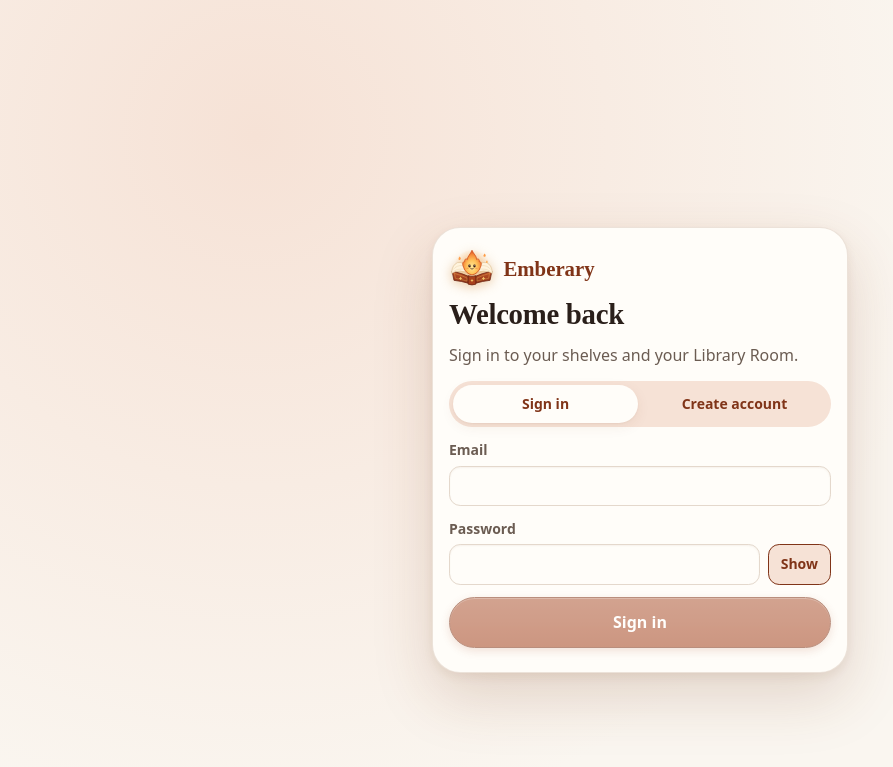
displays a sign-in error and makes retry possible
In the field labelled "Email": (640, 486) [449,466,831,506], type "me@example.com"
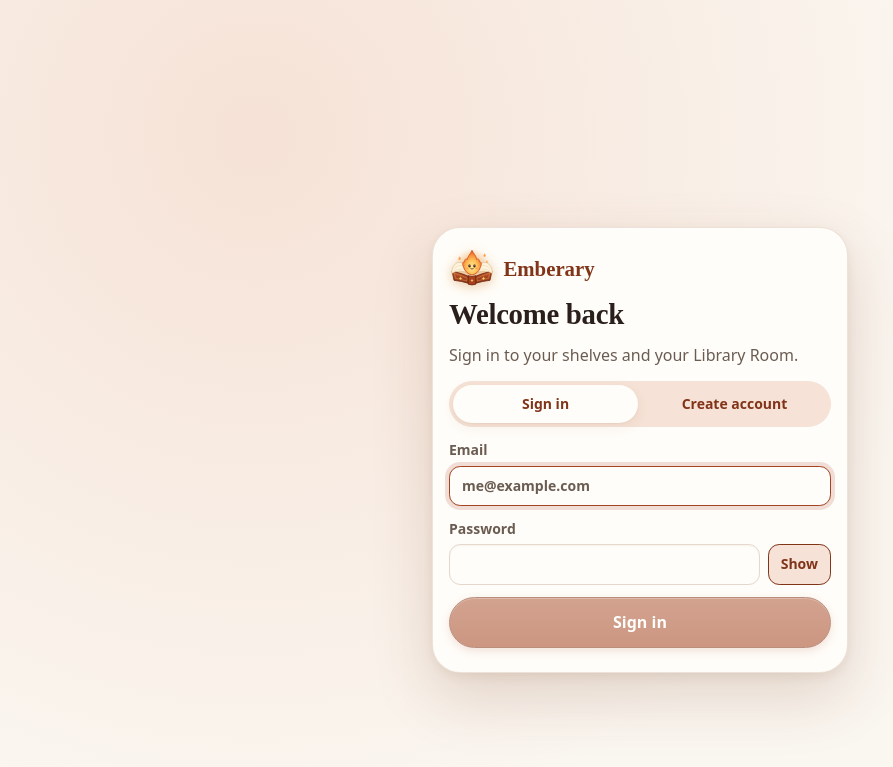
In the password field labelled "Password": (604, 565) [449,544,760,585], type "bad"
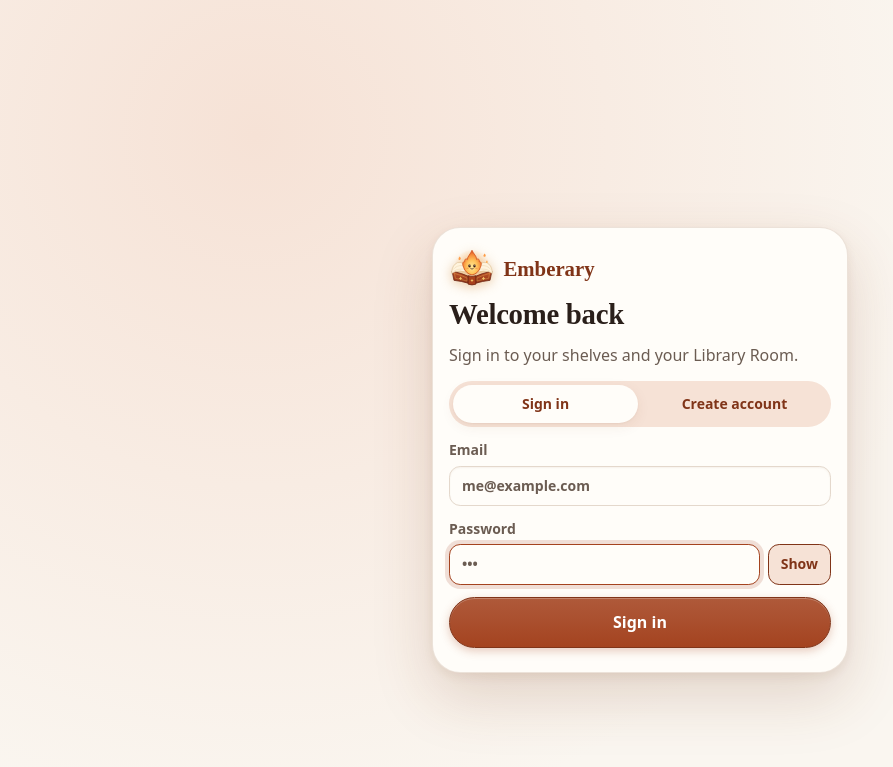
Click the button "Sign in" below "Password": (640, 623) [449,597,831,648]
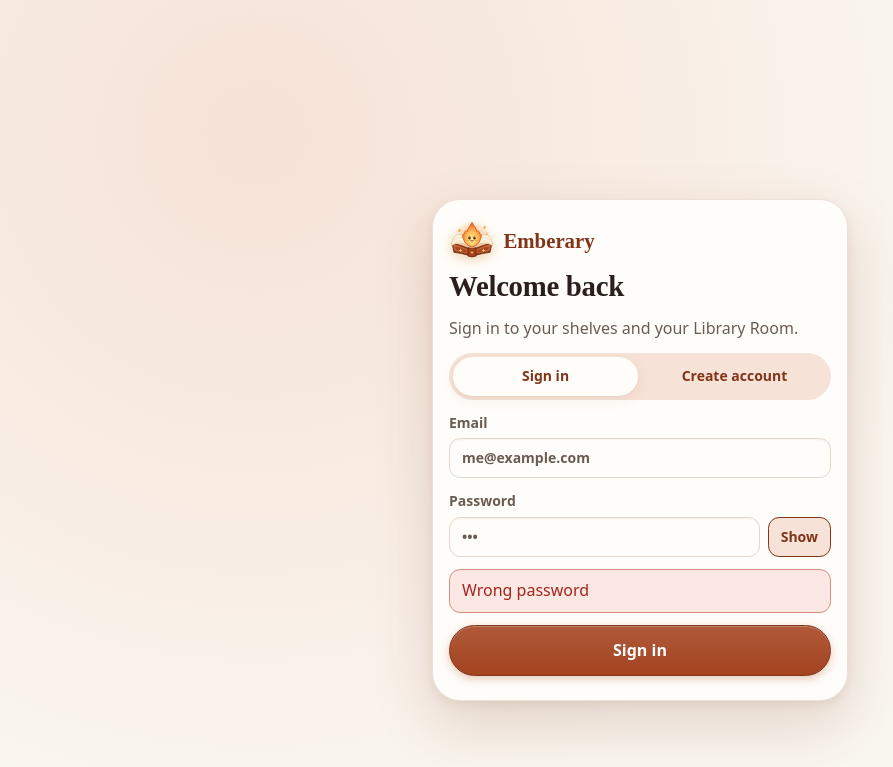
Expected: the button "Sign in" below "Wrong password" is enabled, [449,625,831,676]
Expected: the message reads "Wrong password", [462,579,589,601]
